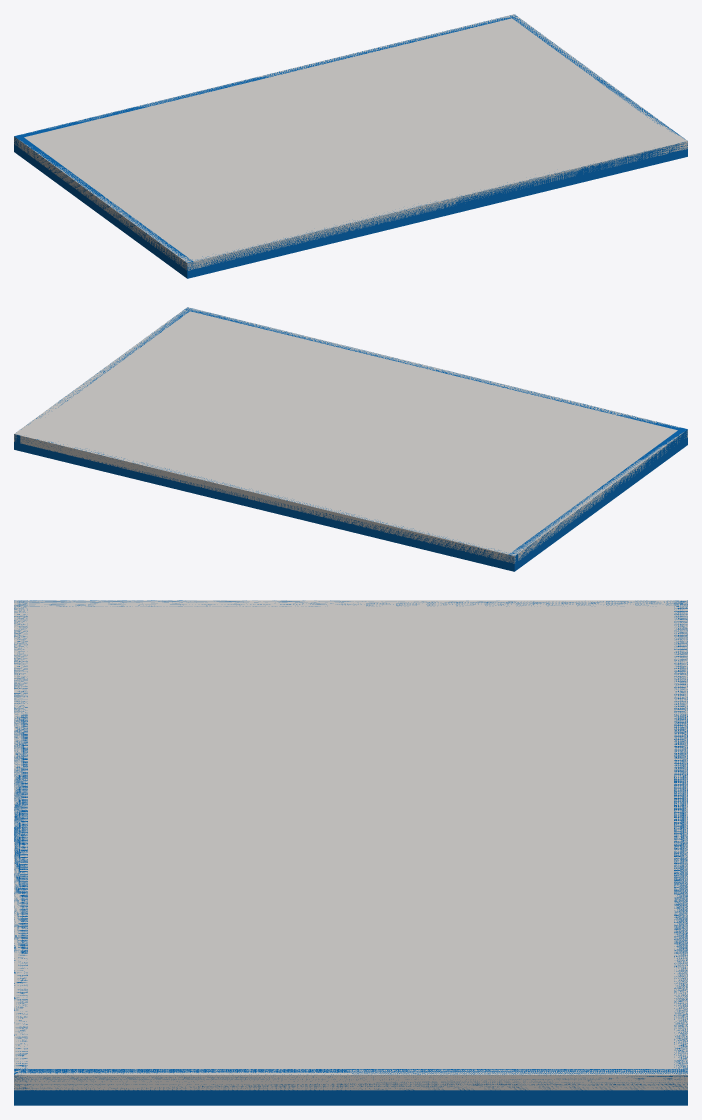
The model's file is main_table_canvas.glb.
3 renders of one model, top to bottom at view 1: azimuth 30°, elevation 25°; view 2: azimuth 150°, elevation 25°; view 3: azimuth 270°, elevation 25°, orthographic. The views are drawn at different scales.
Parts seen in each view (by area): view 1: world; view 2: world; view 3: world.
Boxes of the visible parts, x1=… form: world: x1=14, y1=14, x2=687, y2=278; world: x1=14, y1=307, x2=687, y2=571; world: x1=14, y1=600, x2=687, y2=1105.
Bounding box in the file's own units: 4 × 0.12 × 2.4.
